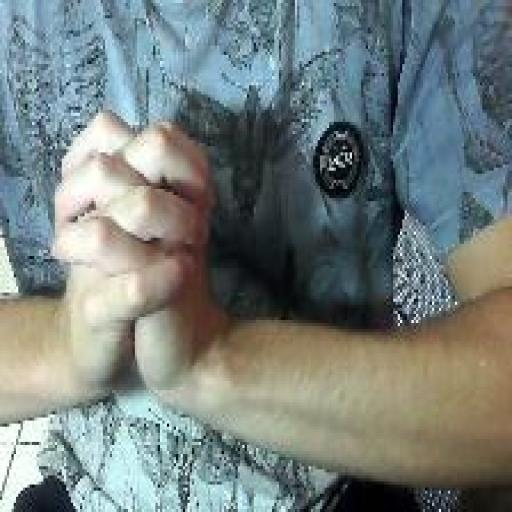Mi -snake-: (46, 104, 219, 424)
